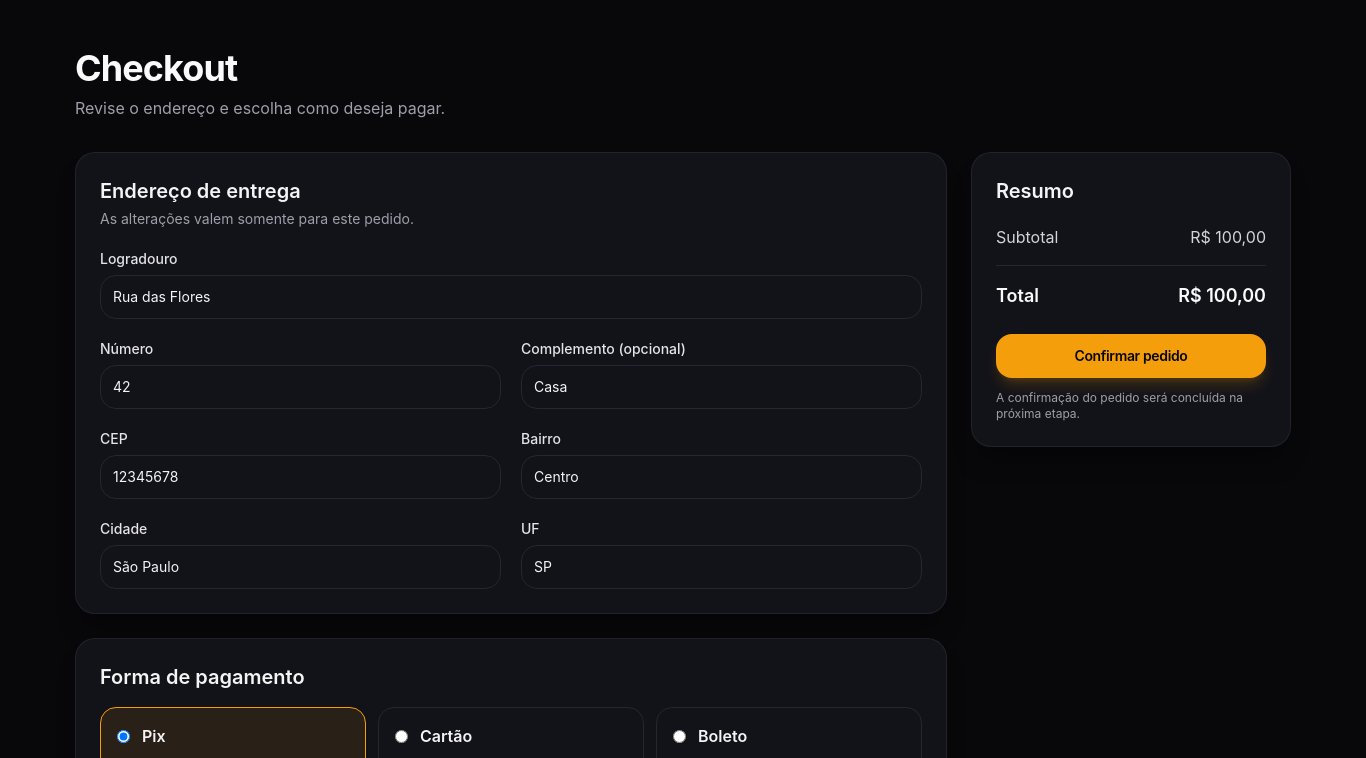
Test: CheckoutPage › shows actionable feedback for HTTP 409 and preserves edits
Replace the text in the field labelled "Logradouro" with "Rua editada": (511, 297) [100, 275, 922, 319]
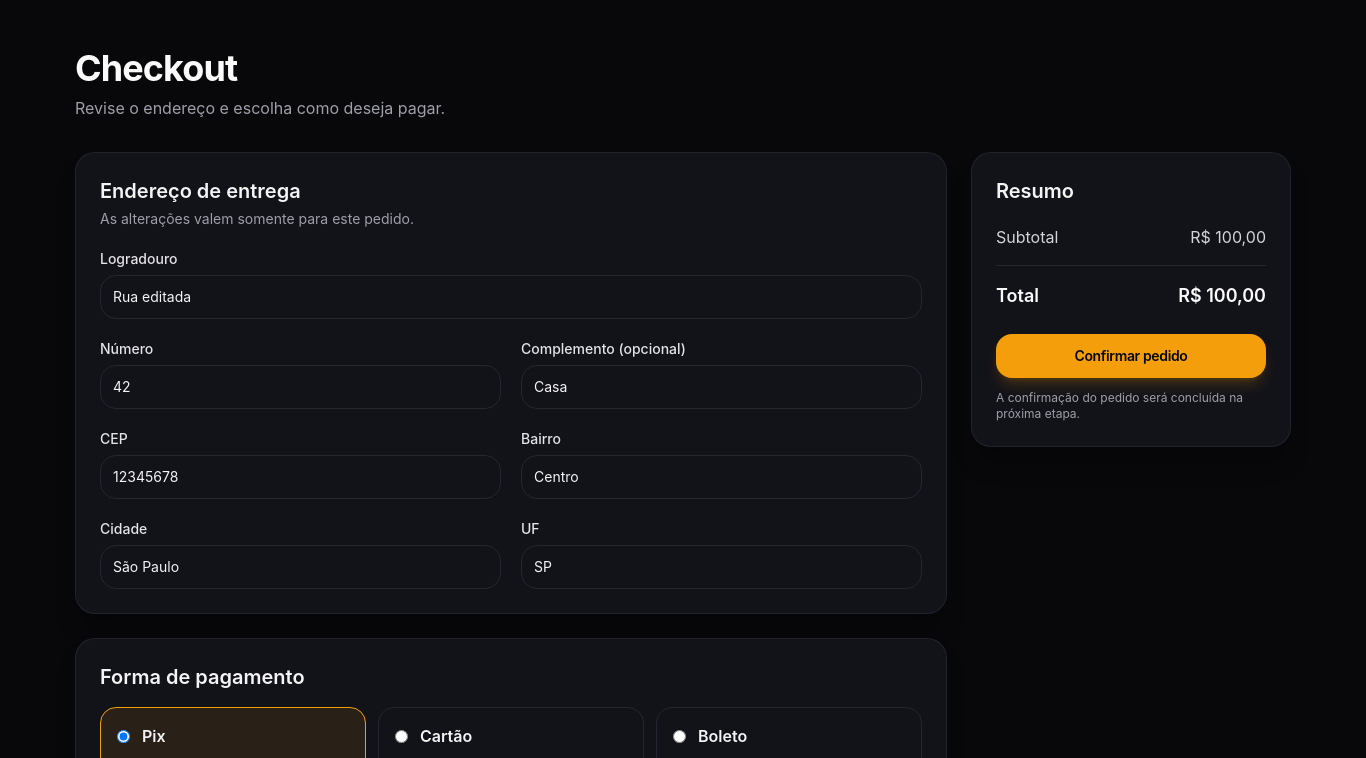
Click the button "Confirmar pedido": (1131, 356) [996, 334, 1266, 378]
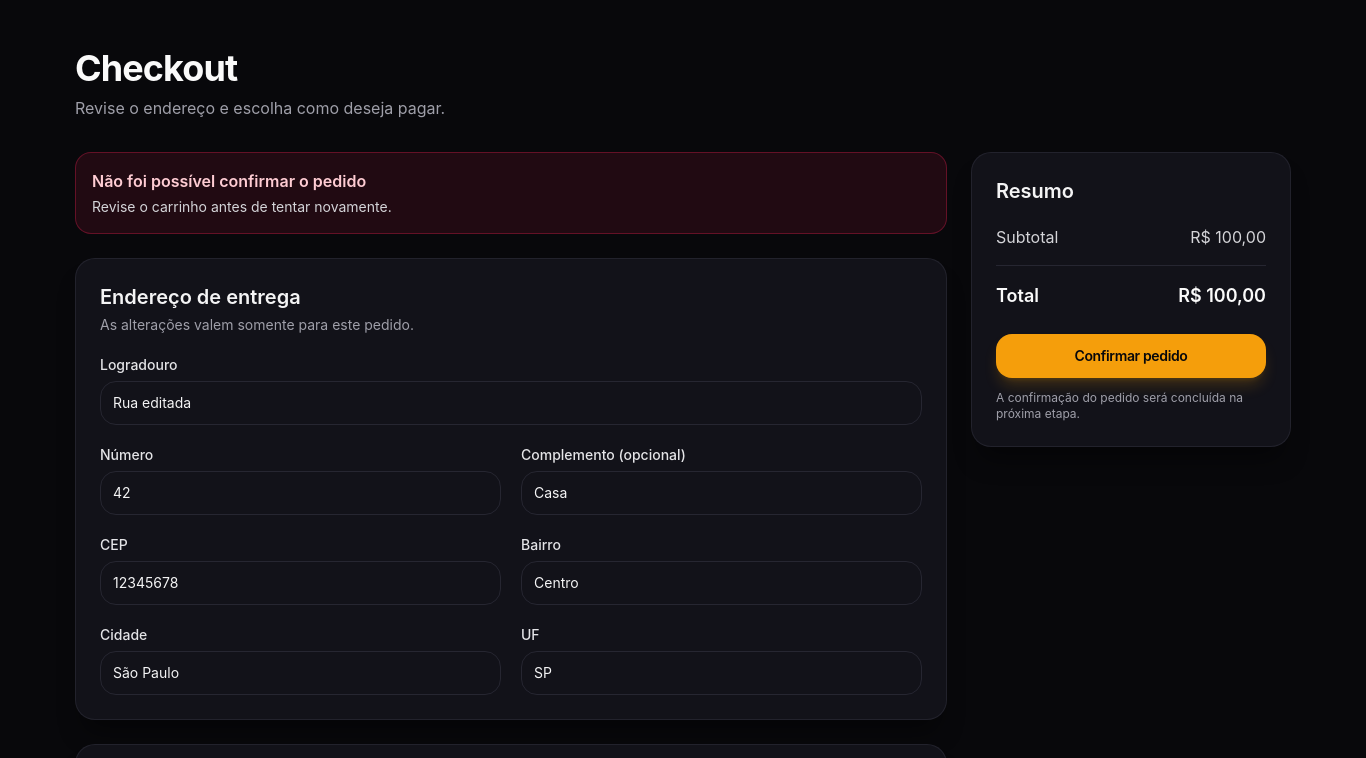
Now the message shows "Revise o carrinho antes de tentar novamente.", box [92, 198, 392, 215]
